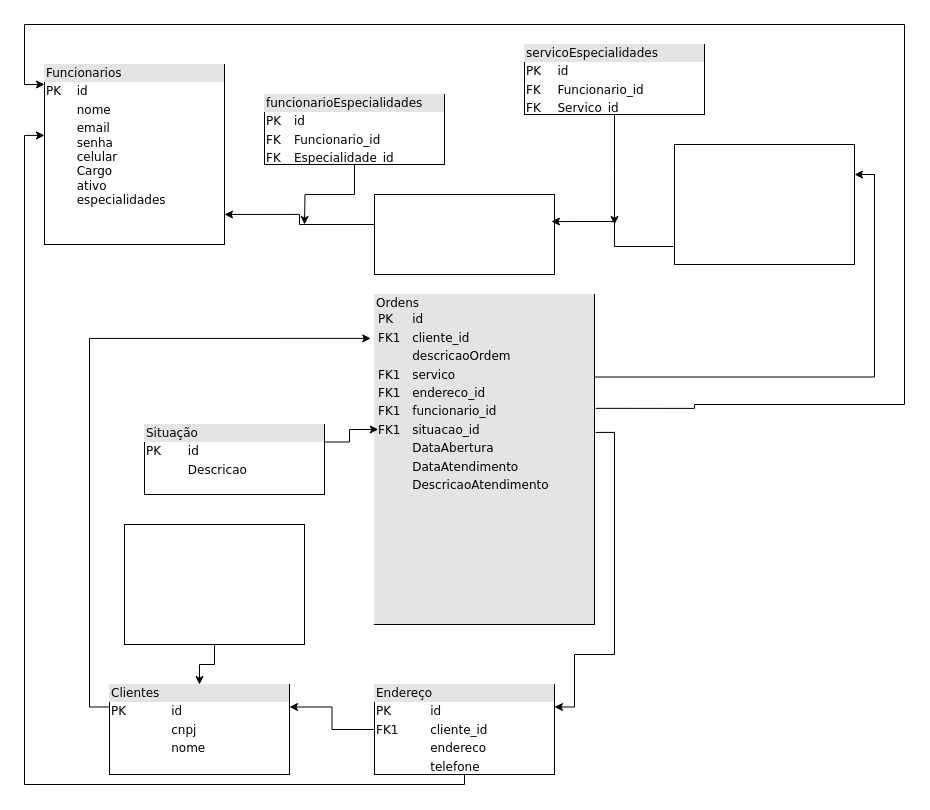
This 930x810 diagram has some shape labels left out. Each missing label, with the centre of its shape:
"Contato PK id FK1 cliente_id endereco telefone nome email" belongs at point 214,584.
"Especialidades PK id nome descrição" belongs at point 464,234.
"servico PK id Descricao nome FK especialidades_id" belongs at point 764,204.
